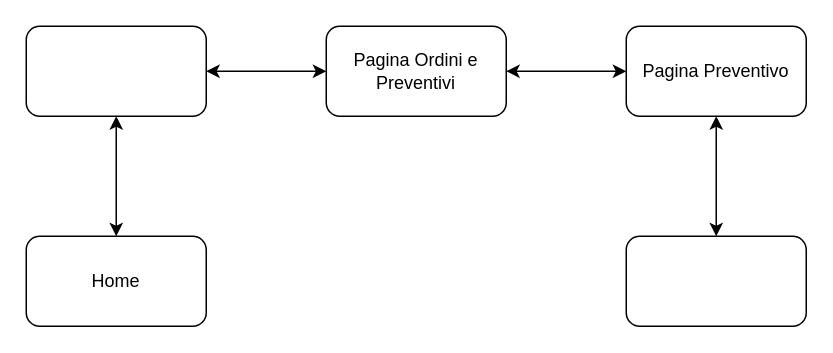
This 833x353 diagram has some shape labels left out. Here are the shapes that lost their labels. From the top down, the box of each, then its label:
(25, 25, 206, 116): Dashboard
(625, 235, 806, 326): Conferma Preventivo
